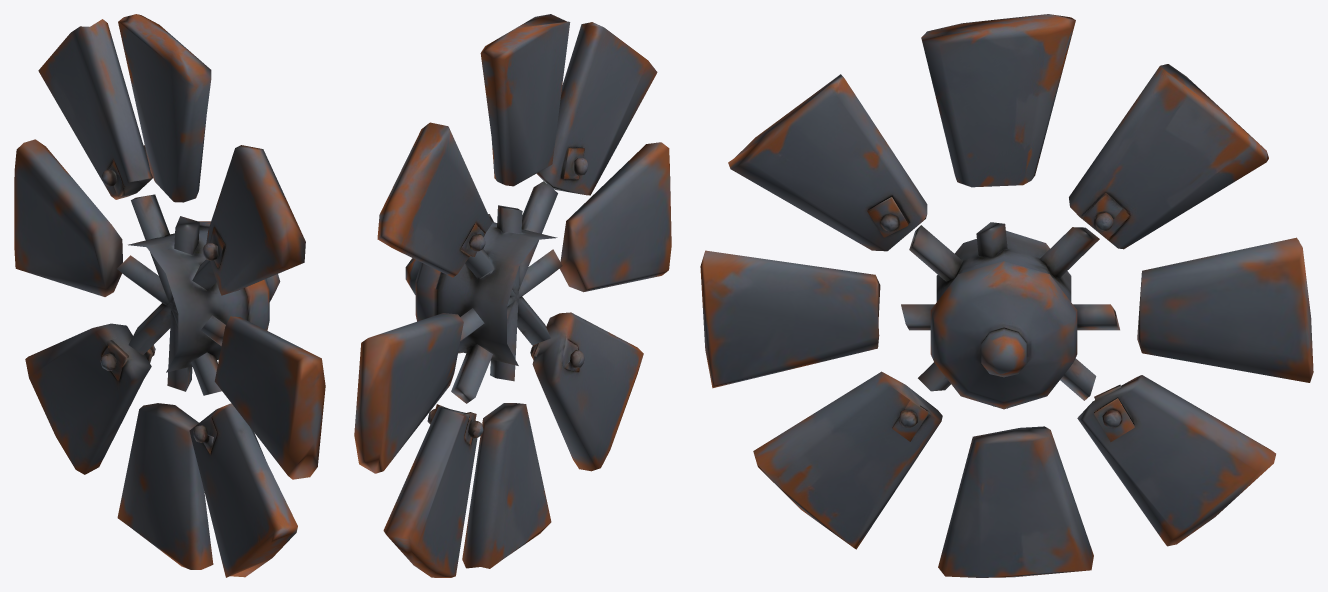
The picture shows the model from 3 angles, left to right: view 1: azimuth 30°, elevation 25°; view 2: azimuth 150°, elevation 25°; view 3: azimuth 270°, elevation 25°; orthographic projection. The views are drawn at different scales.
Visible parts, largest first — view 1: tripo_node_3f7e1b16-481c-42cd-9663-c62d831053fe; view 2: tripo_node_3f7e1b16-481c-42cd-9663-c62d831053fe; view 3: tripo_node_3f7e1b16-481c-42cd-9663-c62d831053fe.
Boxes of the visible parts, left/top/right/bottom form: tripo_node_3f7e1b16-481c-42cd-9663-c62d831053fe: left=14, top=14, right=325, bottom=577; tripo_node_3f7e1b16-481c-42cd-9663-c62d831053fe: left=354, top=14, right=671, bottom=577; tripo_node_3f7e1b16-481c-42cd-9663-c62d831053fe: left=700, top=14, right=1313, bottom=577.
Size of the model in its own units: 0.2559 by 0.9902 by 0.998.
Materials: 1 (1 with a texture image).
